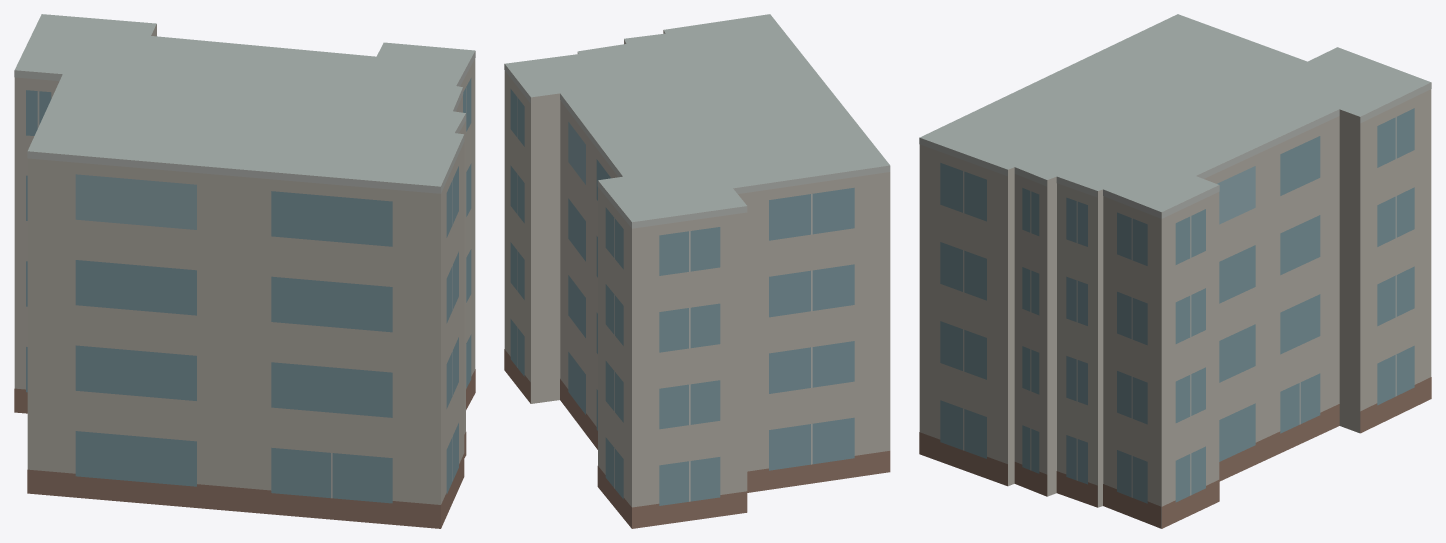
File: survey-upis-32878070.glb
3 renders of one model, left to right at view 1: azimuth 30°, elevation 25°; view 2: azimuth 150°, elevation 25°; view 3: azimuth 270°, elevation 25°, orthographic. The views are drawn at different scales.
Parts seen in each view (by area): view 1: survey-upis-32878070.tmp; view 2: survey-upis-32878070.tmp; view 3: survey-upis-32878070.tmp.
Part boxes in pixels (x1,y1,x2,y2): survey-upis-32878070.tmp: [14, 14, 475, 528]; survey-upis-32878070.tmp: [504, 14, 890, 528]; survey-upis-32878070.tmp: [919, 14, 1431, 528].
Bounding box in the file's own units: 15.59 × 11.6 × 17.01.
